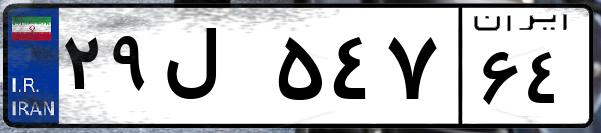2: (57, 26, 110, 100)
4: (330, 28, 385, 110), (525, 38, 570, 115)
5: (270, 28, 330, 110)
6: (475, 38, 525, 113)
7: (385, 28, 445, 110)
9: (110, 28, 158, 98)
ل: (158, 20, 270, 120)
